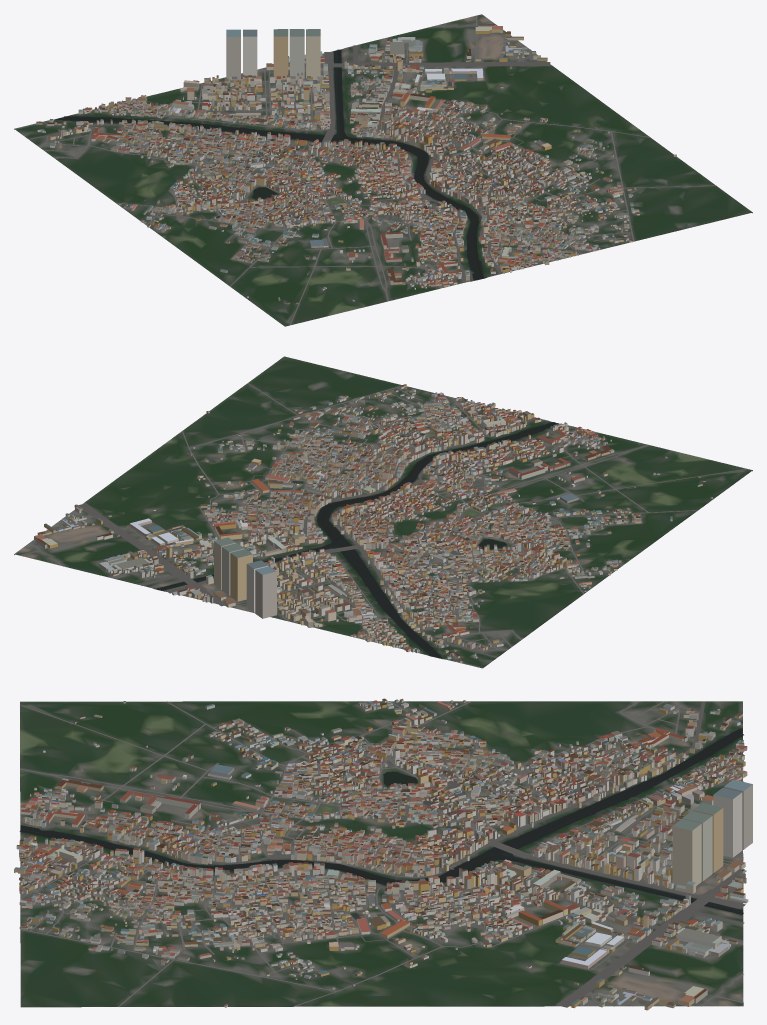
The picture shows the model from 3 angles, top to bottom: view 1: azimuth 30°, elevation 25°; view 2: azimuth 150°, elevation 25°; view 3: azimuth 270°, elevation 25°; orthographic projection. The views are drawn at different scales.
Parts seen in each view (by area): view 1: ground, buildings, roads, water; view 2: ground, buildings, roads, water; view 3: ground, buildings, roads, water.
Part boxes in pixels (left/top/right/bottom): ground: left=14, top=14, right=752, bottom=326; buildings: left=36, top=24, right=676, bottom=304; roads: left=28, top=15, right=716, bottom=325; water: left=55, top=49, right=491, bottom=280; ground: left=14, top=356, right=752, bottom=668; buildings: left=34, top=384, right=712, bottom=663; roads: left=20, top=383, right=747, bottom=663; water: left=155, top=422, right=558, bottom=658; ground: left=20, top=701, right=743, bottom=1007; buildings: left=14, top=698, right=752, bottom=1010; roads: left=20, top=701, right=746, bottom=1007; water: left=19, top=728, right=743, bottom=919.
Size of the model in its own units: 1421 by 129 by 1433.
